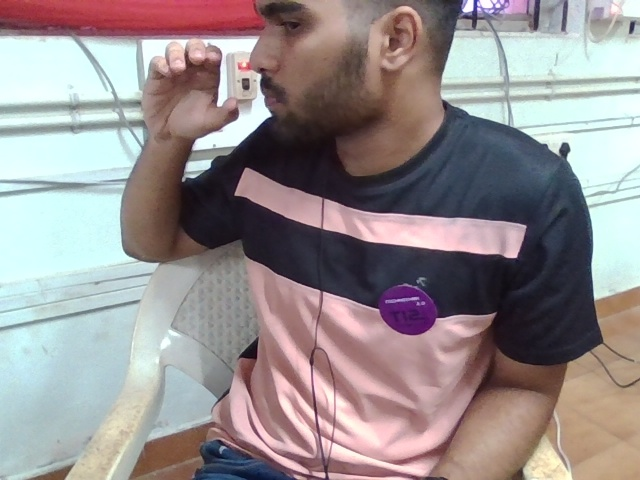Drink: (129, 32, 249, 149)
